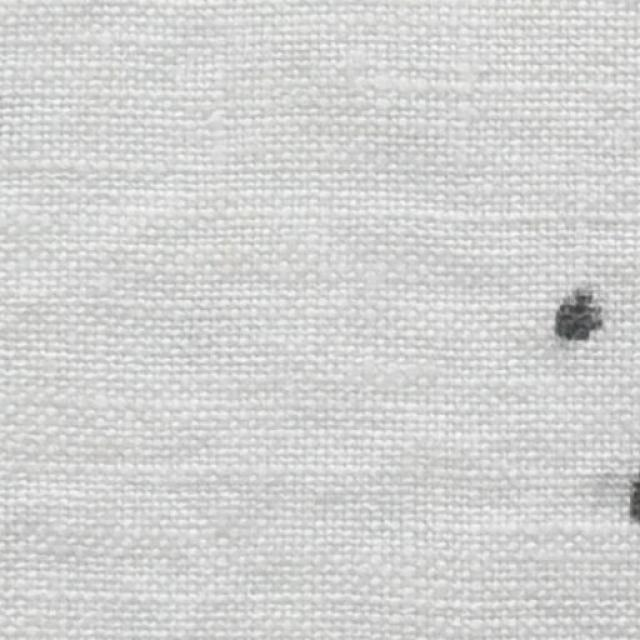Stain: (556, 288, 605, 341), (631, 476, 640, 522)
